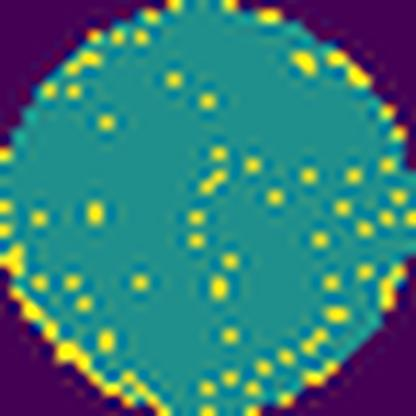Edge-Loc: (0, 247, 176, 414)
